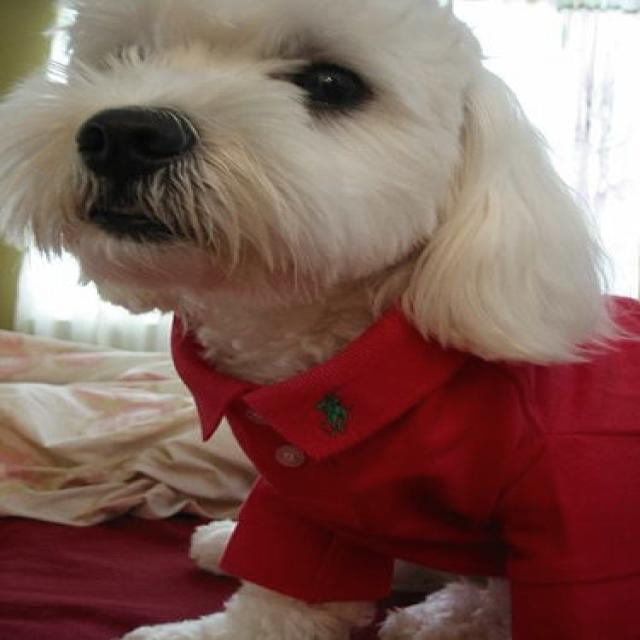maltese_dog: (1, 1, 636, 636)
